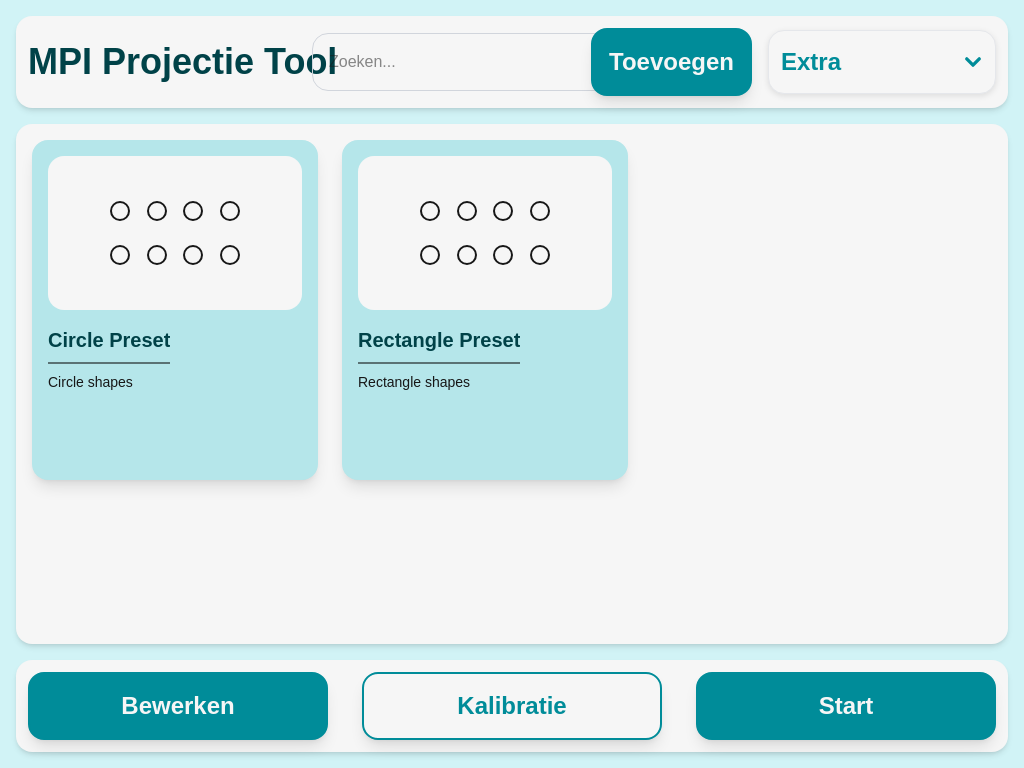
Test: Home Page Integration Tests › filters presets based on search query
This screenshot has width=1024, height=768.
Check: the text "Circle Preset" is shown, box x1=48 y1=326 x2=170 y2=354
Check: the text "Rectangle Preset" is shown, box x1=358 y1=326 x2=520 y2=354
In the field with placeholder "Zoeken...": (512, 62) x1=312 y1=33 x2=712 y2=91, type "Circle"
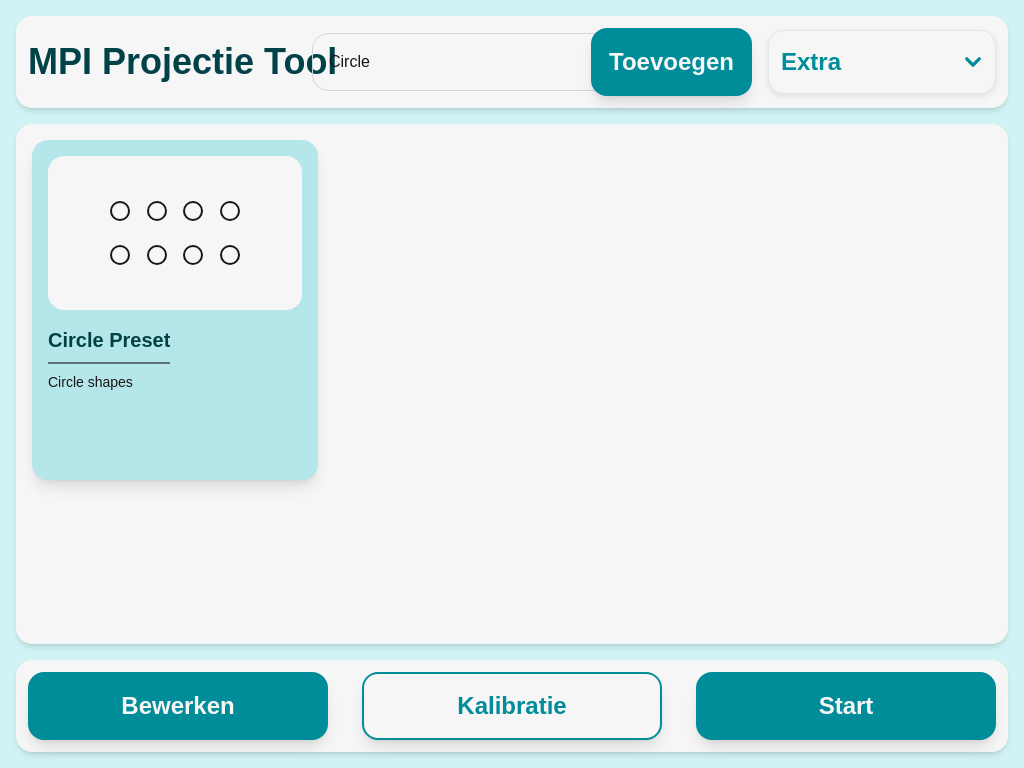
Check: the text "Circle Preset" is shown, box x1=48 y1=326 x2=170 y2=354
Check: the button "Rectangle Preset" is gone
